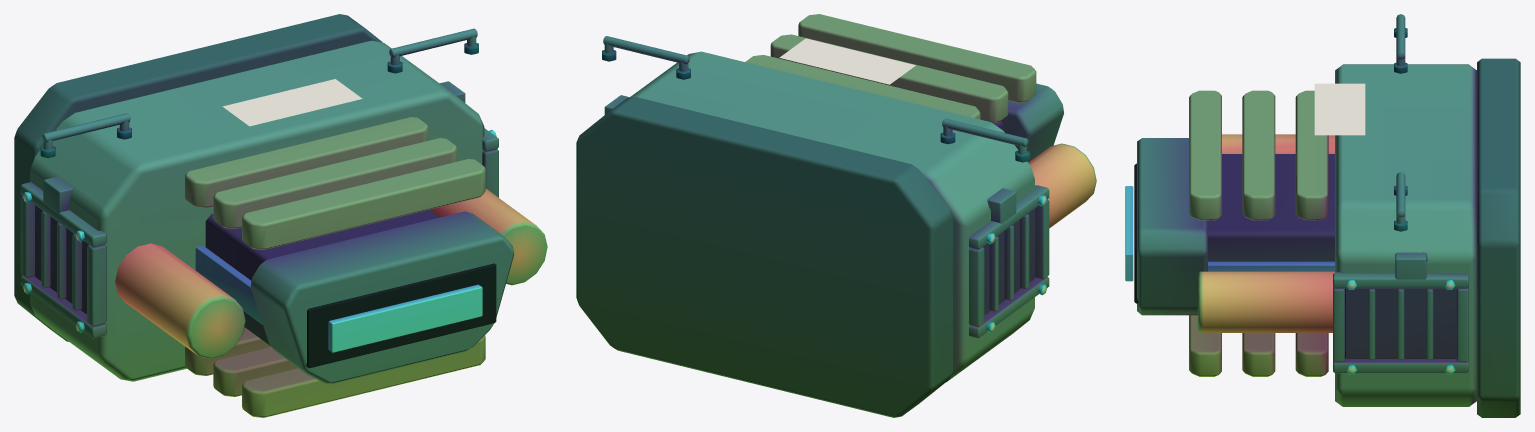
File: gen_mhd_plasma_gen.glb
3 views of the same model, side by side, from view 1: azimuth 30°, elevation 25°; view 2: azimuth 150°, elevation 25°; view 3: azimuth 270°, elevation 25° (orthographic). The views are drawn at different scales.
Parts seen in each view (by area): view 1: Body__armor_sub, Body__copper, Body__gunmetal, Body__dark, Body__brass, Body__bore, Body__emit_core, Body__decal, Body__emit_cyan; view 2: Body__dark, Body__armor_sub, Body__copper, Body__gunmetal, Body__brass, Body__decal; view 3: Body__armor_sub, Body__dark, Body__gunmetal, Body__copper, Body__brass, Body__decal, Body__emit_cyan, Body__emit_core, Body__bore.
Part boxes in pixels (x1,y1,x2,y2): Body__armor_sub: (30,40,484,381); Body__copper: (185,117,485,417); Body__gunmetal: (20,28,514,383); Body__dark: (14,14,478,346); Body__brass: (115,188,547,358); Body__bore: (306,263,496,368); Body__emit_core: (328,284,482,352); Body__decal: (222,79,362,126); Body__emit_cyan: (195,245,262,324); Body__dark: (576,50,1035,417); Body__armor_sub: (629,51,1034,382); Body__copper: (745,14,1036,123); Body__gunmetal: (603,36,1063,338); Body__brass: (1028,143,1096,228); Body__decal: (779,38,915,84); Body__armor_sub: (1335,64,1476,406); Body__dark: (1173,28,1520,417); Body__gunmetal: (1137,14,1468,373); Body__copper: (1189,90,1328,376); Body__brass: (1198,134,1334,332); Body__decal: (1314,83,1365,135); Body__emit_cyan: (1208,261,1334,271); Body__emit_core: (1125,186,1133,281); Body__bore: (1134,163,1138,303).
Size of the model in its own units: 0.9295 by 0.53 by 0.779.
